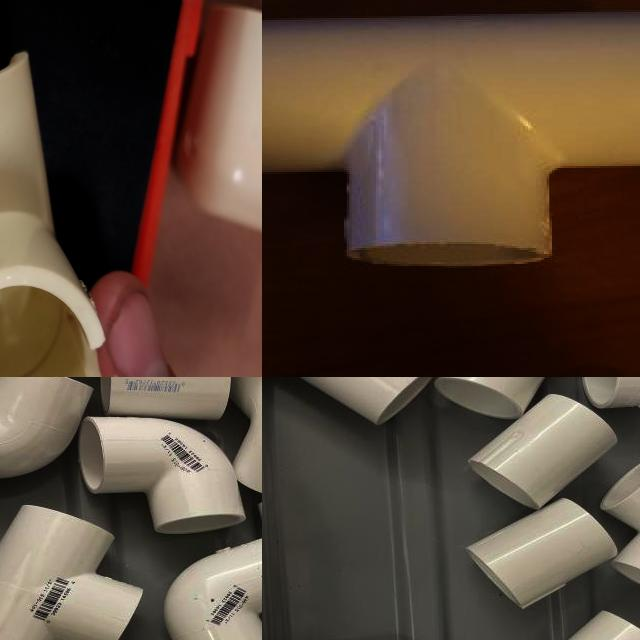L Joint: (78, 417, 246, 537), (164, 538, 262, 640), (230, 377, 262, 498)
T Joint: (262, 10, 640, 271), (0, 506, 144, 640)
